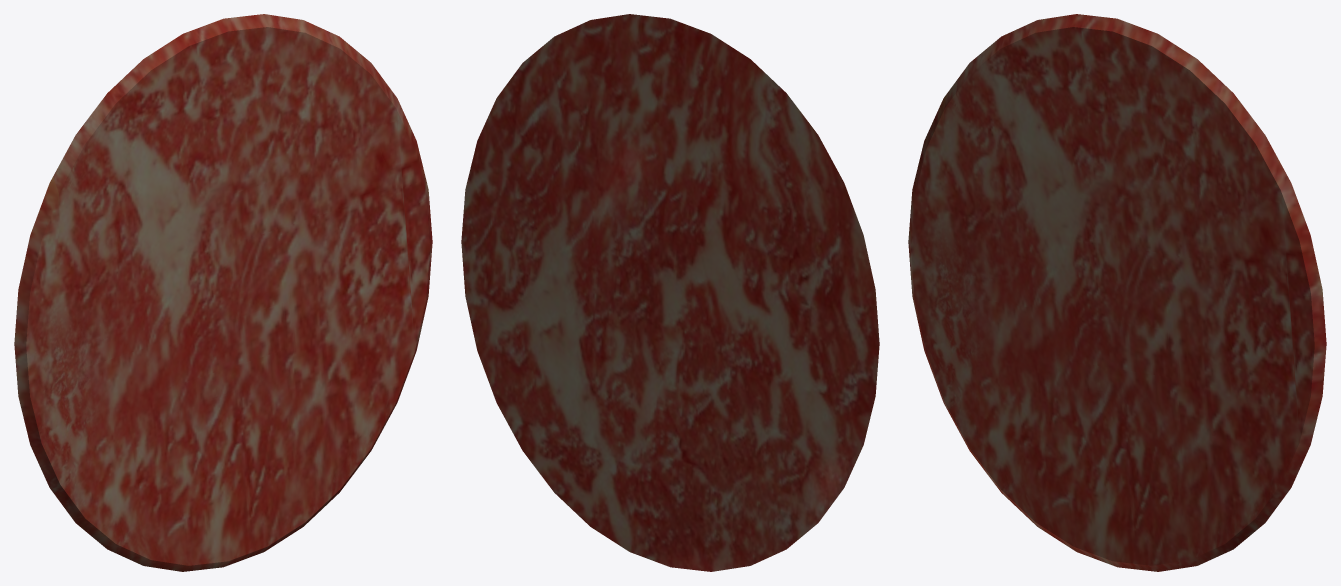
The model's file is sucuk dilim.fbx.
3 views of the same model, side by side, from view 1: azimuth 30°, elevation 25°; view 2: azimuth 150°, elevation 25°; view 3: azimuth 330°, elevation 25° (orthographic).
Parts seen in each view (by area): view 1: Circle; view 2: Circle; view 3: Circle.
Boxes of the visible parts, bbox=[...] form: Circle: bbox=[14, 14, 432, 571]; Circle: bbox=[461, 14, 879, 571]; Circle: bbox=[908, 14, 1326, 571].
Size of the model in its own units: 258 by 323 by 4.99.
Materials: 1 (1 with a texture image).
